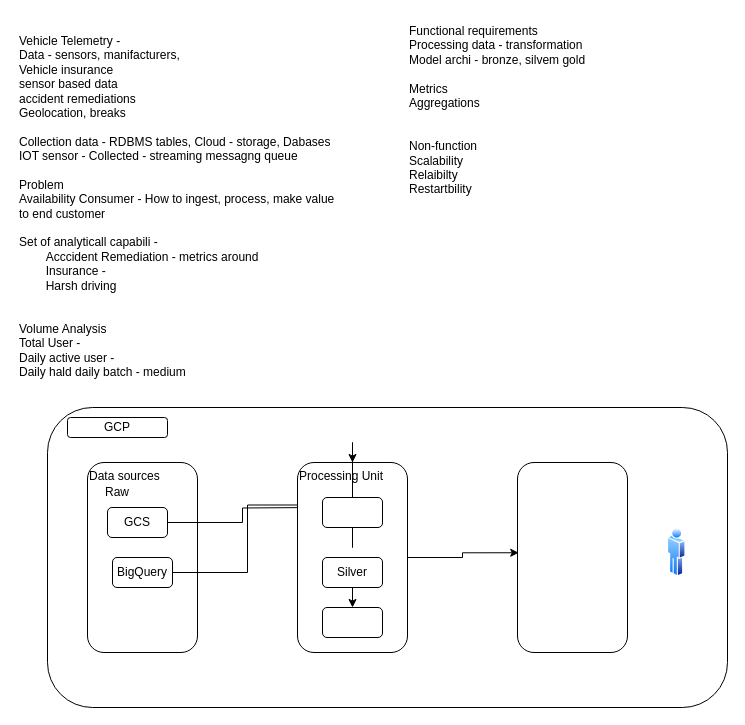
Some shapes in this 745 by 725 pixel diagram are drawn without their labels. Each missing label, with the centre of its shape:
Bronze: [352,512]
Gold: [352,622]
Visualization: [572,557]
